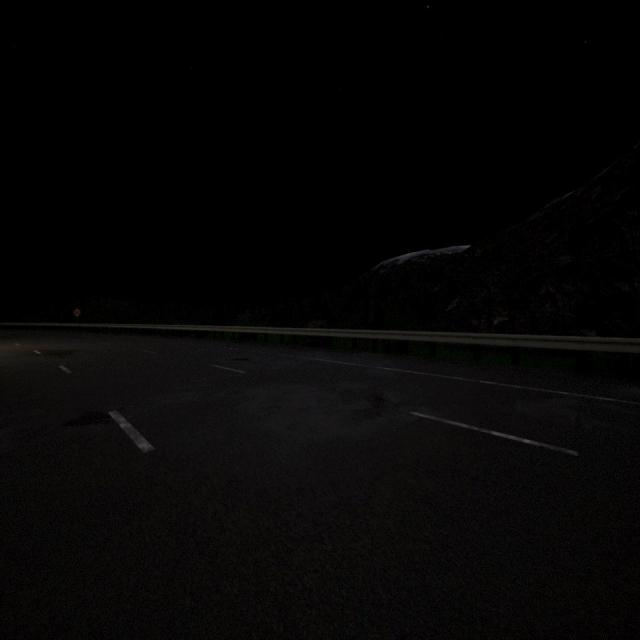Traffic_Signs: (73, 309, 81, 317)
